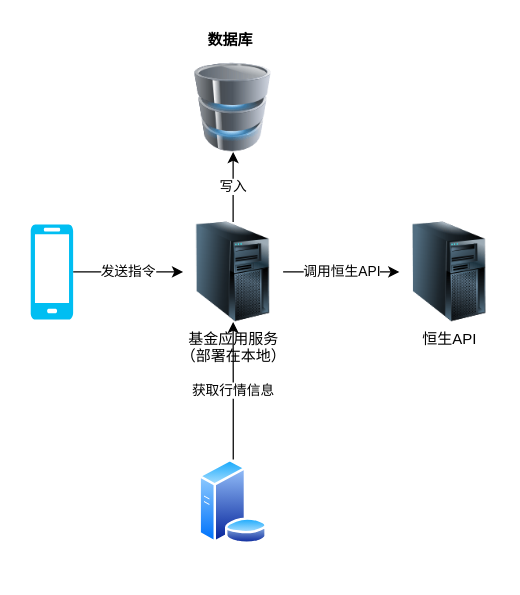
Some shapes in this 520 by 595 pixel diagram are drawn without their labels. The centre of each missing label's shape, as x and y in pixels:
"博易APP" belongs at point (51, 271).
"行情数据源" belongs at point (233, 501).
